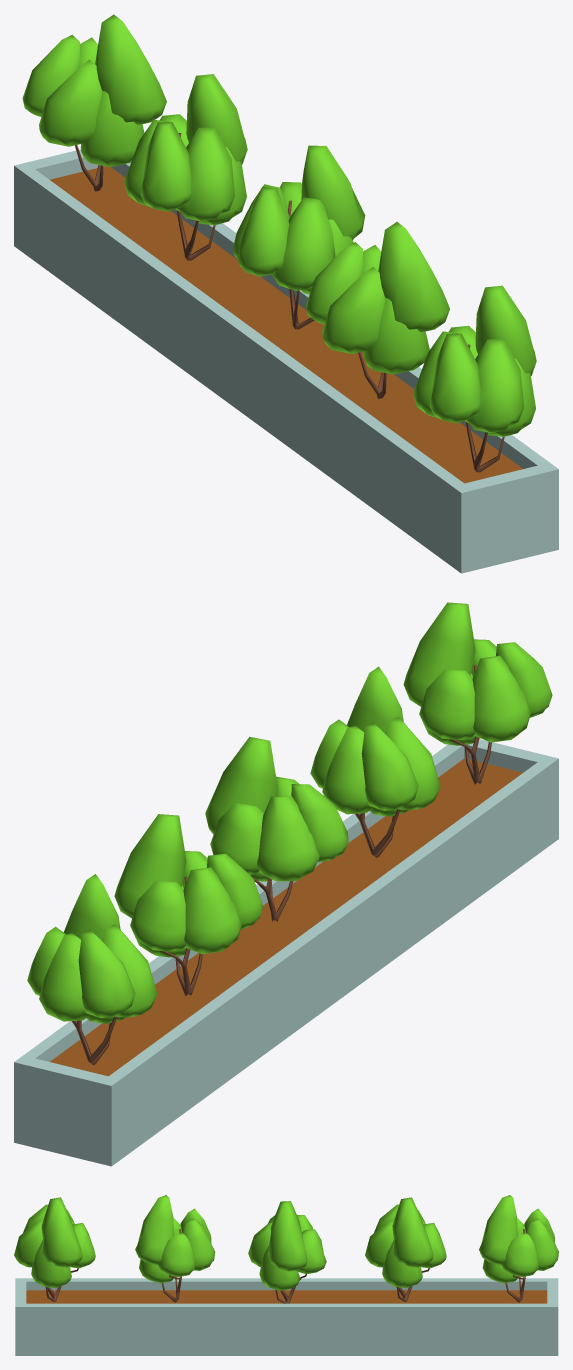
File: PlantPot_01a.fbx
3 renders of one model, top to bottom at view 1: azimuth 30°, elevation 25°; view 2: azimuth 150°, elevation 25°; view 3: azimuth 270°, elevation 25°, orthographic. The views are drawn at different scales.
Visible parts, largest first — view 1: PlantPot_01a, Birchtree.003, Birchtree_01a, Birchtree.001, Birchtree.005, Birchtree.004; view 2: PlantPot_01a, Birchtree.001, Birchtree.005, Birchtree.004, Birchtree_01a, Birchtree.003; view 3: PlantPot_01a, Birchtree.003, Birchtree_01a, Birchtree.001, Birchtree.005, Birchtree.004.
Part boxes in pixels (box(x1,y1,x2,y2)): PlantPot_01a: box(14, 149, 558, 573); Birchtree.003: box(305, 222, 449, 398); Birchtree_01a: box(22, 14, 166, 191); Birchtree.001: box(413, 285, 536, 472); Birchtree.005: box(124, 74, 247, 260); Birchtree.004: box(232, 145, 365, 329); PlantPot_01a: box(14, 739, 558, 1166); Birchtree.001: box(403, 602, 552, 784); Birchtree.005: box(114, 814, 263, 995); Birchtree.004: box(205, 736, 348, 921); Birchtree_01a: box(27, 874, 157, 1065); Birchtree.003: box(310, 666, 440, 857); PlantPot_01a: box(15, 1278, 558, 1355); Birchtree.003: box(135, 1195, 215, 1302); Birchtree_01a: box(479, 1195, 558, 1302); Birchtree.001: box(14, 1197, 95, 1301); Birchtree.005: box(365, 1197, 446, 1301); Birchtree.004: box(248, 1201, 326, 1303).
Bounding box in the file's own units: 233 × 408 × 1361.
